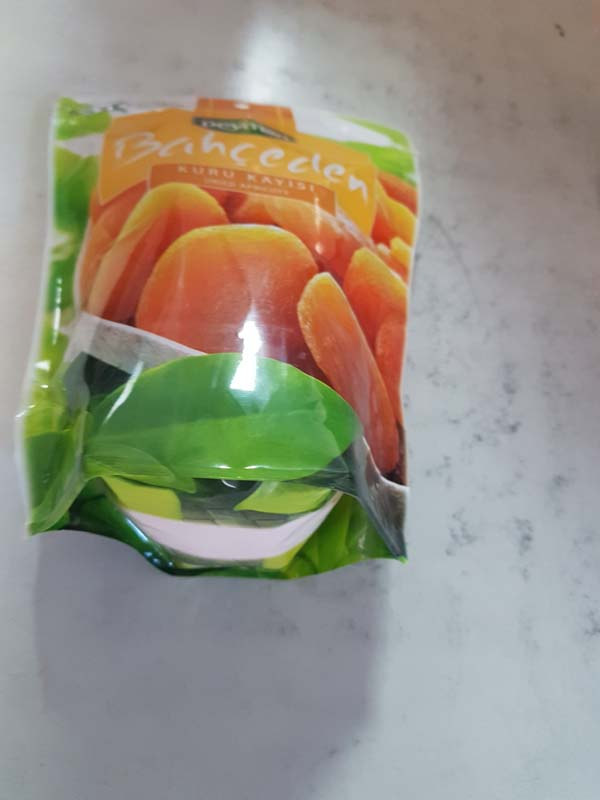bahcedenkurukayisi: (31, 76, 424, 586)
